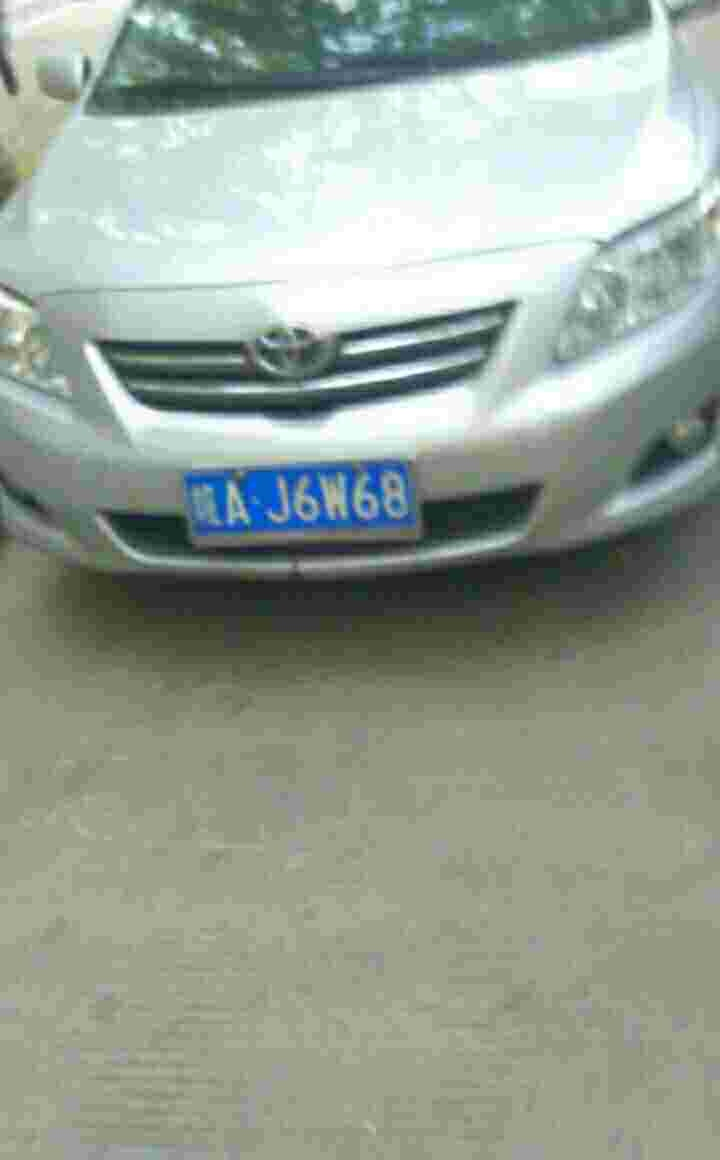license_plate: (187, 466, 429, 536)
